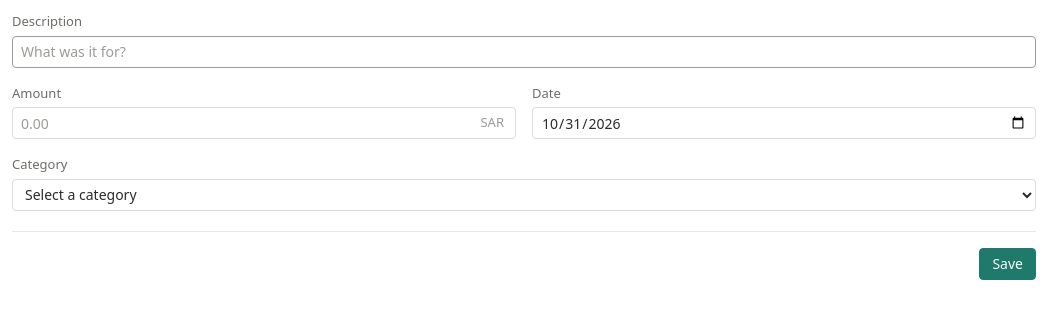
Test: ExpenseForm validation › rejects an amount of zero
The image size is (1048, 323).
Step 1. Select "Food" in the dropdown labelled "Category" → (524, 194), box top-left (12, 178), bottom-right (1036, 210)
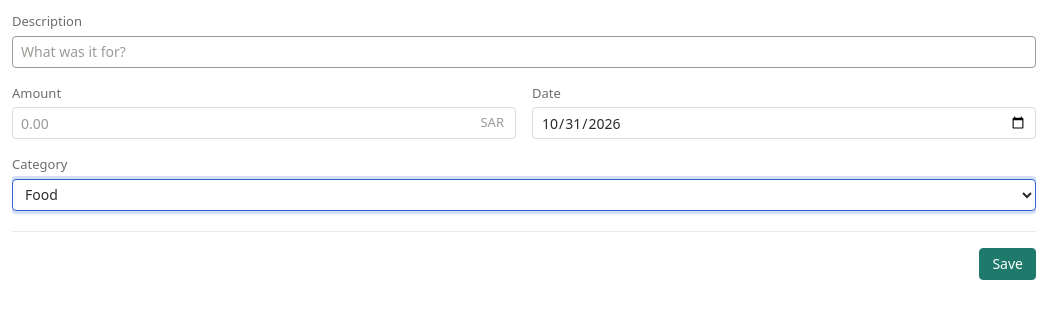
Step 2. Type "12.50" into the number field labelled "Amount" → (264, 123), box top-left (12, 107), bottom-right (516, 139)
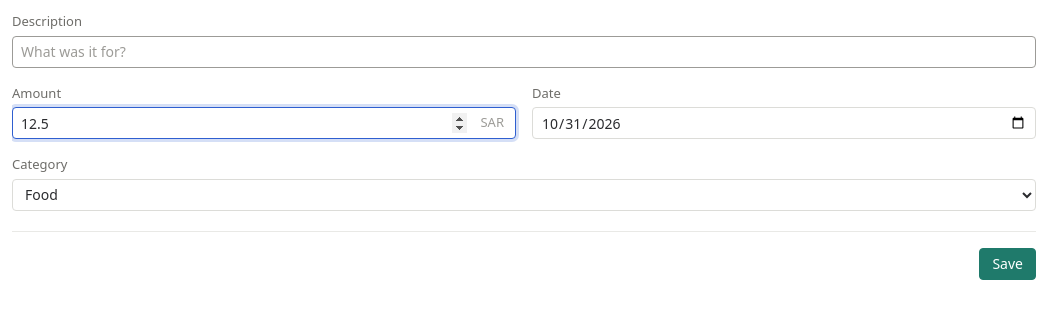
Step 3. Type "  Lunch  " into the field labelled "Description" → (524, 52), box top-left (12, 36), bottom-right (1036, 68)
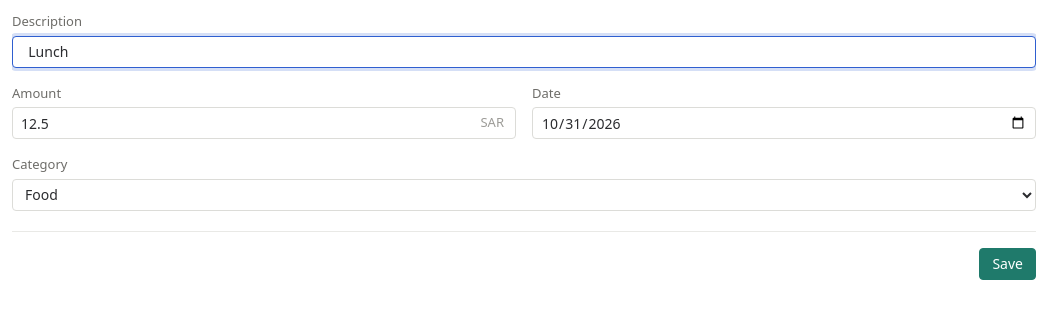
Step 4. Type "2026-10-01" into the date field labelled "Date" → (784, 123), box top-left (532, 107), bottom-right (1036, 139)
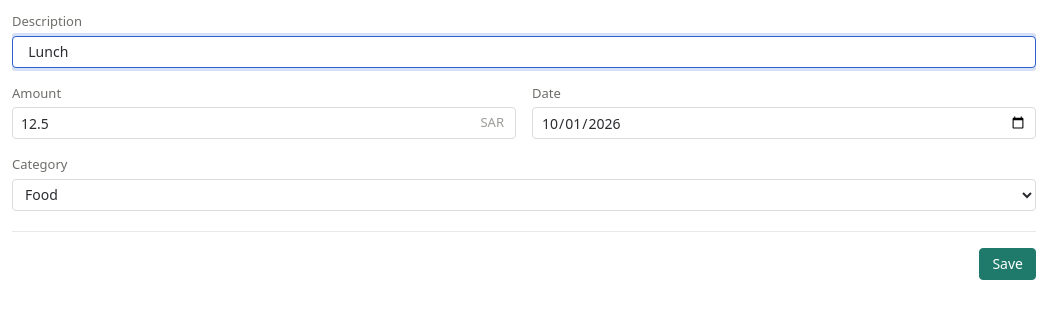
Step 5. Replace the text in the number field labelled "Amount" with "0" → (264, 123), box top-left (12, 107), bottom-right (516, 139)
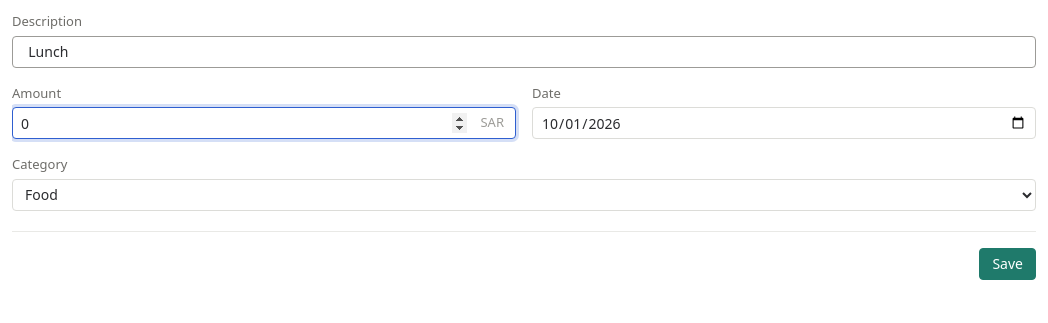
Step 6. Click the button "Save" → click(1008, 264), box top-left (979, 248), bottom-right (1036, 280)
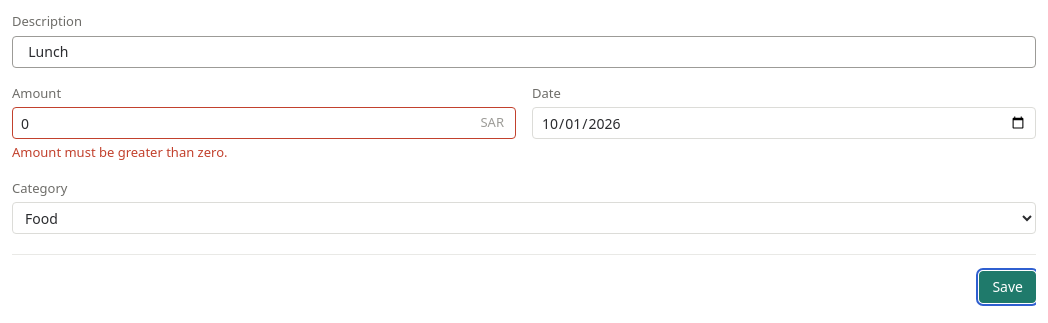
Result: the text "Amount must be greater than zero." is shown at top-left (12, 143), bottom-right (228, 161)
